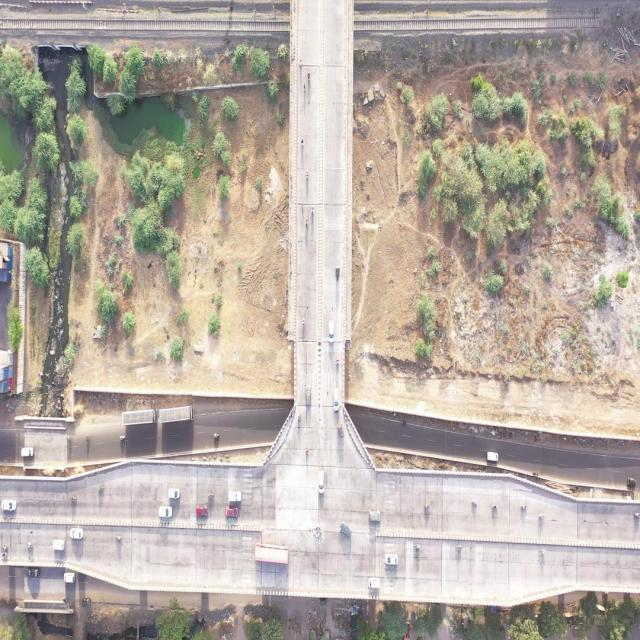3W: (626, 476, 638, 489), (337, 422, 345, 440), (82, 596, 92, 608), (335, 264, 340, 284), (318, 598, 327, 605)
Bus: (253, 540, 291, 567), (121, 407, 158, 426), (159, 405, 195, 423)
Cars: (339, 521, 353, 539), (332, 386, 341, 413), (158, 504, 173, 520), (1, 498, 17, 512), (367, 575, 381, 590), (227, 488, 242, 502), (70, 526, 84, 541), (317, 469, 325, 495), (305, 381, 312, 409), (52, 538, 66, 552), (384, 553, 399, 566), (20, 446, 36, 458), (25, 567, 41, 579), (328, 318, 335, 345), (196, 503, 208, 518), (368, 509, 381, 522), (225, 506, 238, 519), (168, 487, 180, 501), (63, 572, 76, 584), (486, 450, 499, 462)
M2W: (537, 512, 546, 522), (69, 495, 79, 504), (304, 444, 310, 458), (455, 543, 464, 552), (0, 551, 9, 560), (520, 503, 528, 513), (413, 542, 421, 552), (25, 541, 35, 549), (538, 547, 546, 556), (114, 534, 122, 543), (207, 492, 216, 500), (336, 356, 340, 373), (300, 136, 304, 152), (298, 412, 302, 428), (62, 596, 70, 604), (491, 503, 500, 510), (633, 510, 640, 519), (213, 432, 220, 441), (400, 419, 408, 426), (471, 498, 478, 506), (305, 214, 308, 232), (2, 543, 8, 552), (96, 486, 105, 492), (306, 167, 309, 184), (311, 205, 314, 222), (532, 470, 539, 477), (119, 434, 126, 441), (307, 68, 310, 84), (302, 314, 305, 330), (424, 503, 431, 509), (303, 81, 306, 94), (299, 58, 302, 70), (302, 201, 304, 218)
